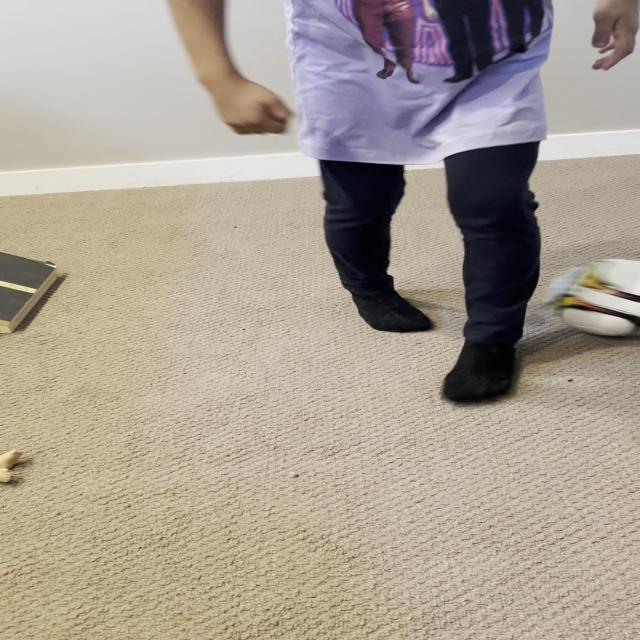Soccer Ball: (551, 258, 640, 338)
